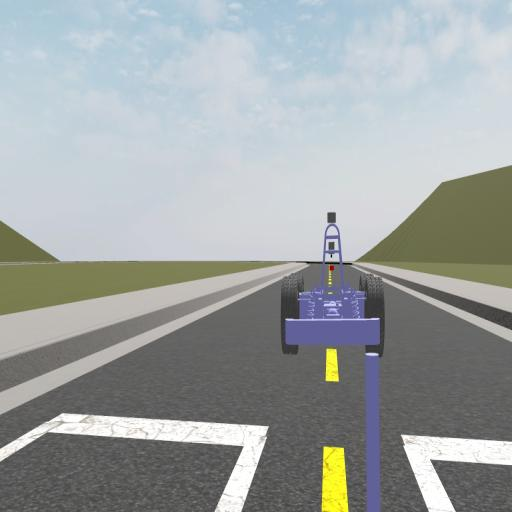ERP-42: (282, 212, 384, 358)
